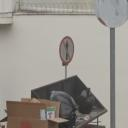NoSeguir: (58, 36, 76, 65)
